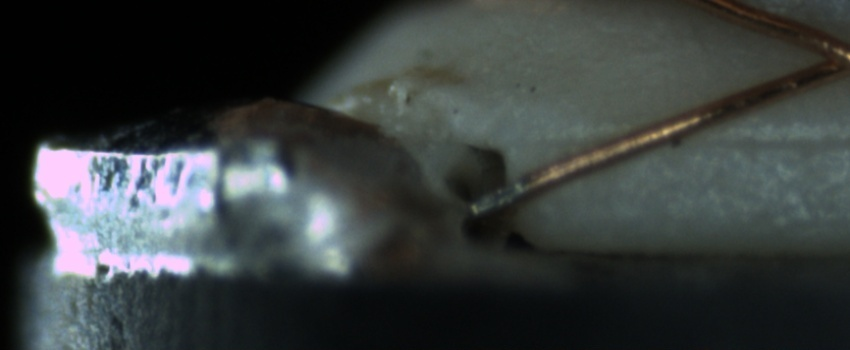CL: (791, 25, 850, 88)
DL: (550, 111, 850, 169)
TS: (465, 177, 531, 220)
